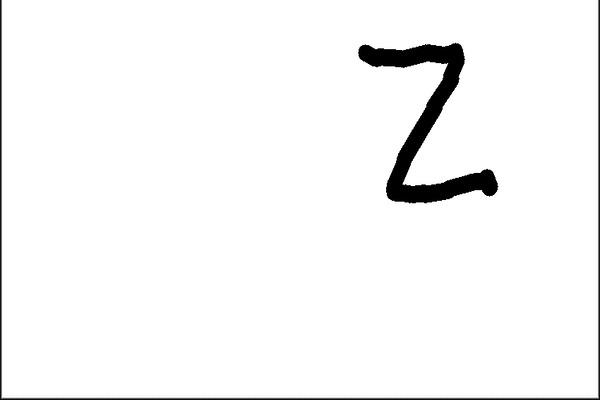Z: (337, 31, 510, 216)
